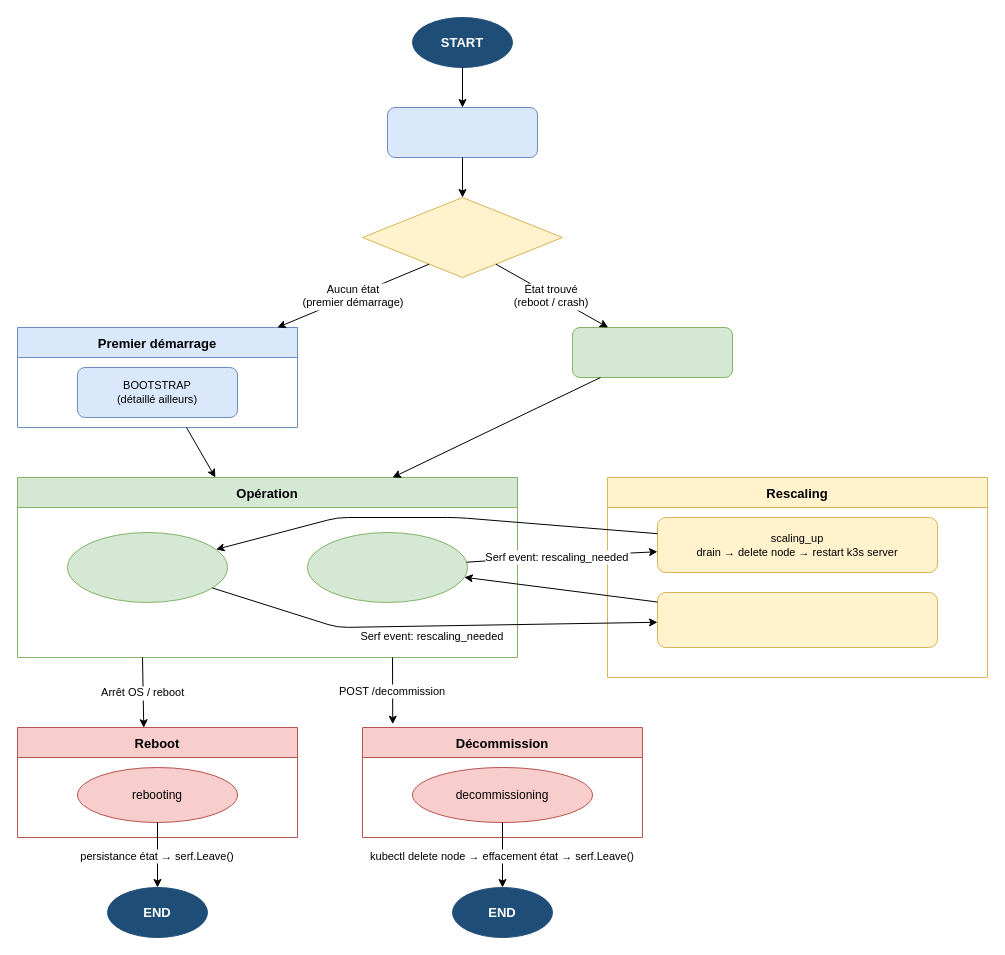
Image size: 1005x955. Some labels were removed from this diagram. Here are the shapes that lost their labels. From the top down, the centre of each, then its label:
[462,132]: starting
[462,237]: État persisté ?
[652,352]: rejoin_cluster
[147,567]: stable_server
[387,567]: stable_agent
[797,620]: scaling_down drain → delete node → etcdctl remove → restart k3s agent
